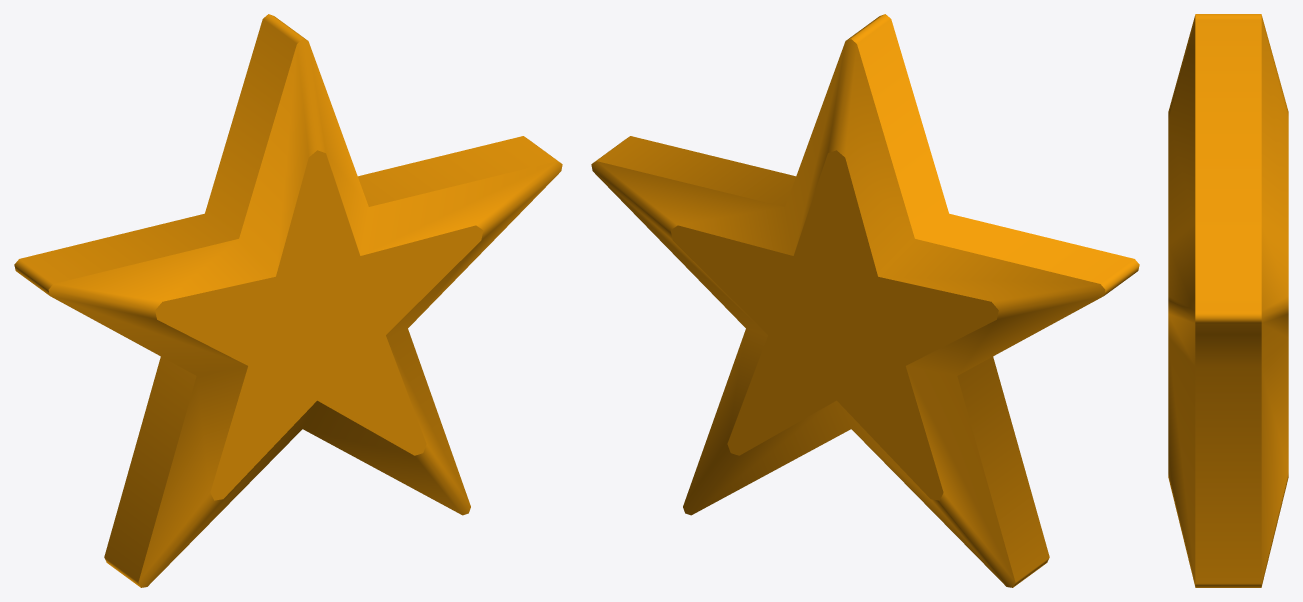
Rendered from Star_TypeA.FBX.
3 renders of one model, left to right at view 1: azimuth 30°, elevation 25°; view 2: azimuth 150°, elevation 25°; view 3: azimuth 270°, elevation 25°, orthographic. The views are drawn at different scales.
Parts seen in each view (by area): view 1: Star_TypeA; view 2: Star_TypeA; view 3: Star_TypeA.
Boxes of the visible parts, x1,y1,x2,y2 form: Star_TypeA: [14, 14, 562, 587]; Star_TypeA: [591, 14, 1139, 587]; Star_TypeA: [1168, 14, 1288, 587].
Size of the model in its own units: 22.68 by 21.73 by 4.76.
